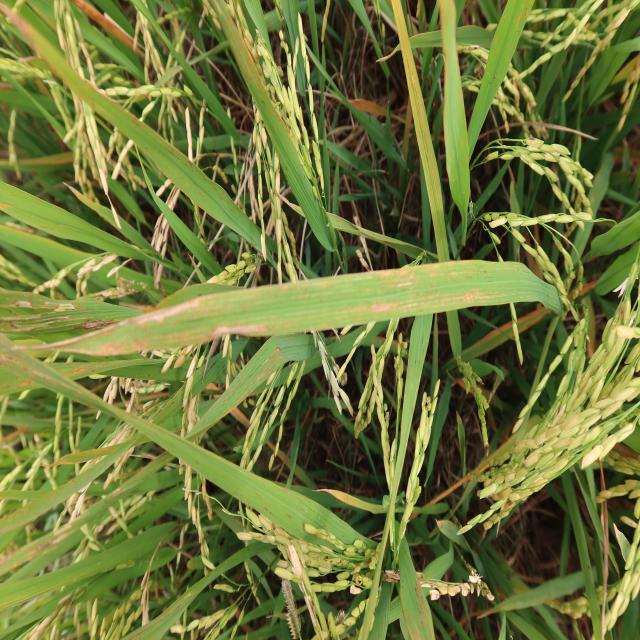Dom soc vi khuan: (179, 268, 421, 319), (71, 297, 272, 354), (331, 286, 516, 324)
